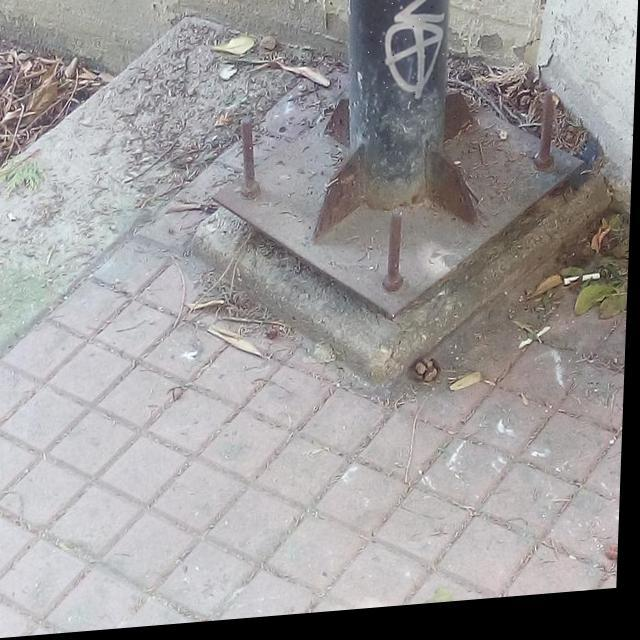-: (363, 0, 452, 110)
